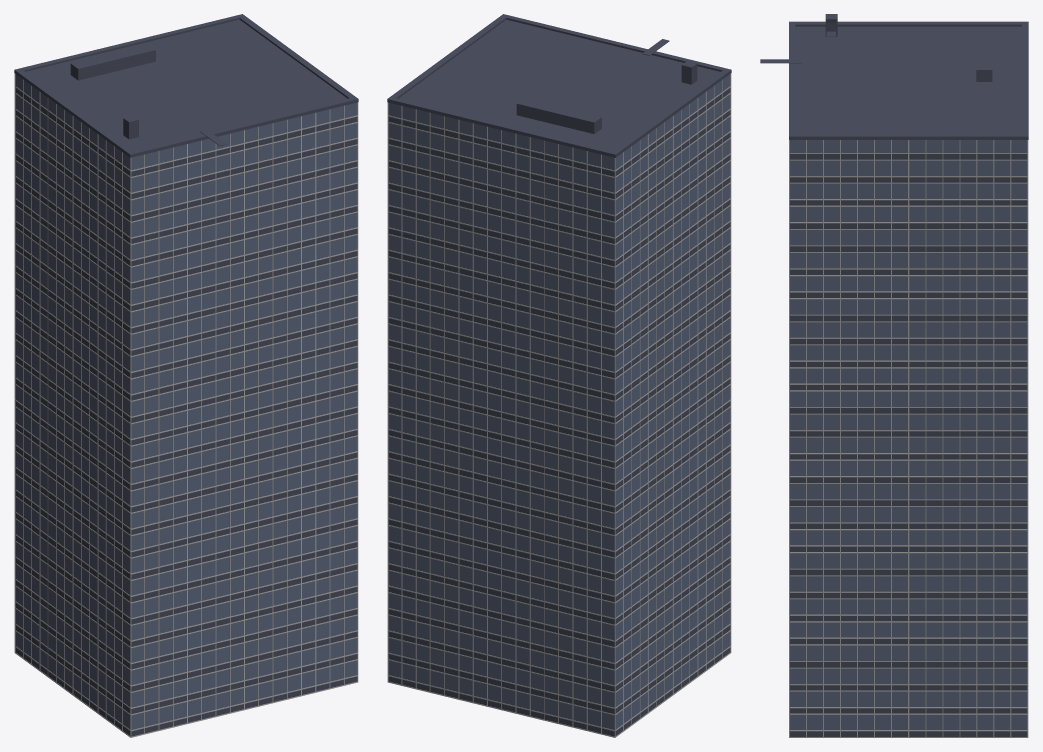
File: Main Building.fbx
The picture shows the model from 3 angles, left to right: view 1: azimuth 30°, elevation 25°; view 2: azimuth 150°, elevation 25°; view 3: azimuth 270°, elevation 25°; orthographic projection. The views are drawn at different scales.
Visible parts, largest first — view 1: Building; view 2: Building; view 3: Building.
Boxes of the visible parts, box(x1,y1,x2,y2) form: Building: box(14, 14, 358, 737); Building: box(387, 14, 731, 737); Building: box(760, 14, 1028, 737).
Size of the model in its own units: 3203 by 8024 by 3156.
